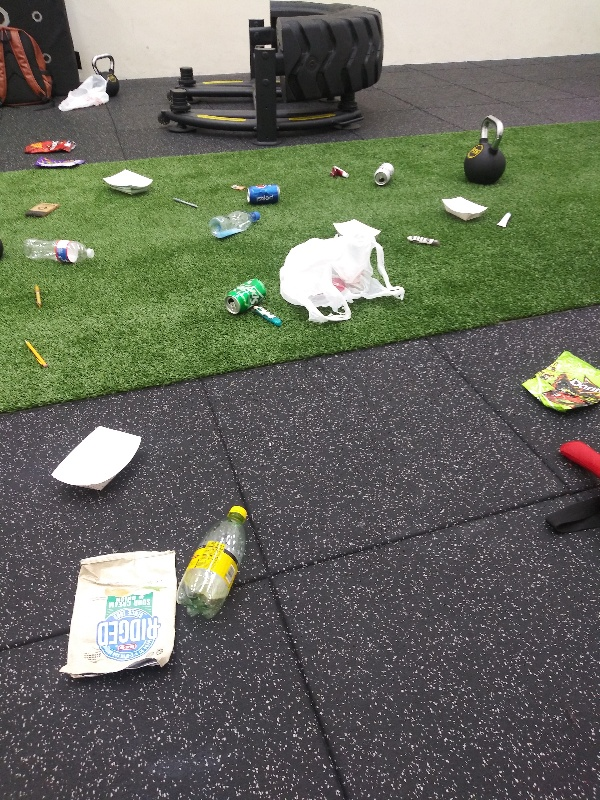bag: (53, 548, 183, 687), (515, 344, 600, 418), (19, 133, 78, 157), (29, 151, 86, 173)
bottle: (175, 499, 255, 621), (22, 235, 100, 268), (201, 206, 264, 242)
can: (219, 274, 269, 317), (238, 182, 284, 210), (369, 159, 396, 188)
plate: (48, 421, 144, 495), (97, 166, 159, 197), (437, 192, 490, 223)
